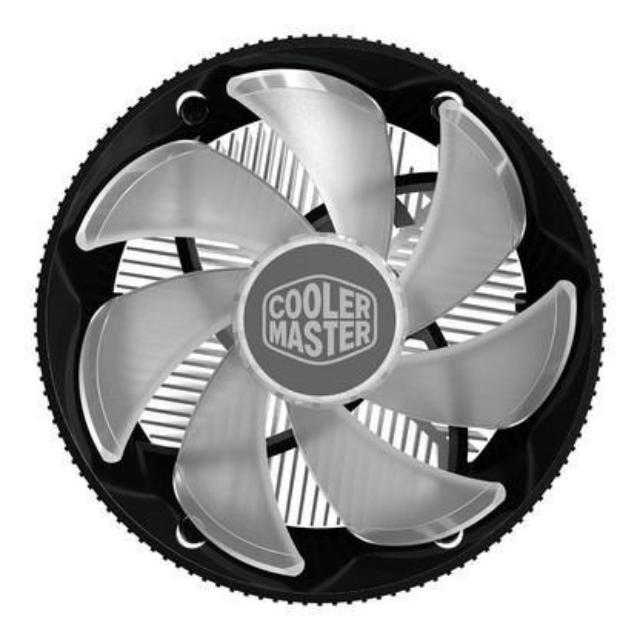CPU_Fan: (29, 18, 612, 613)
